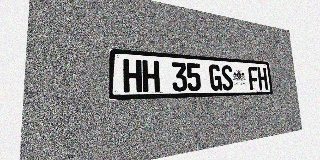3: (171, 62, 187, 92)
5: (186, 63, 201, 91)
F: (248, 66, 259, 90)
G: (209, 64, 222, 91)
H: (123, 59, 142, 93), (142, 60, 160, 92), (257, 67, 268, 90)
S: (221, 65, 234, 90)
